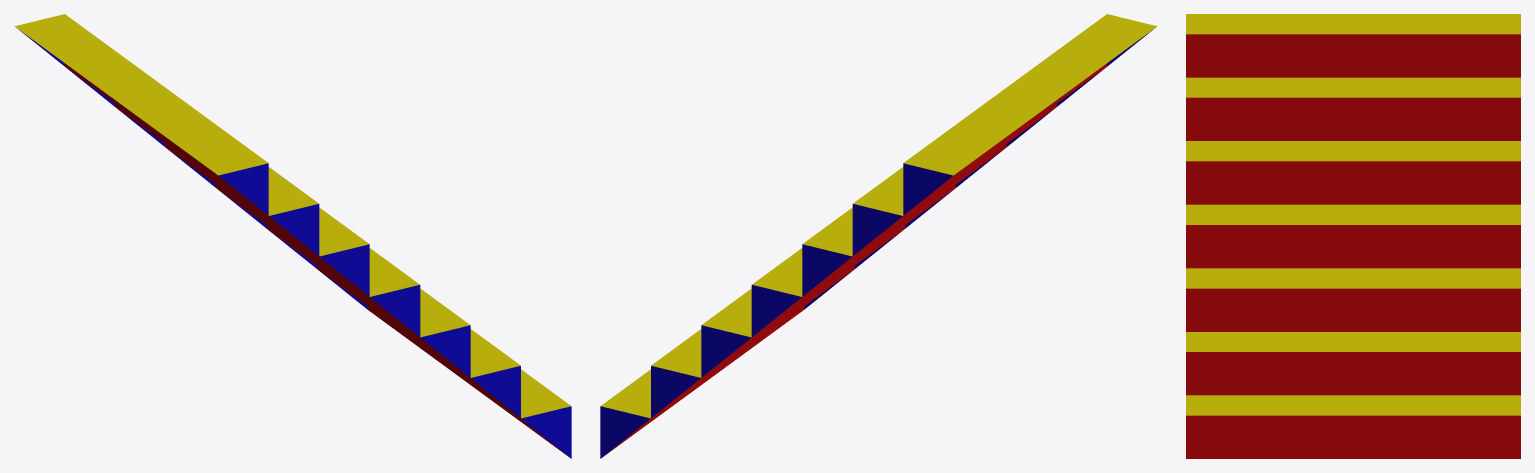
The model's file is Stair1.fbx.
3 renders of one model, left to right at view 1: azimuth 30°, elevation 25°; view 2: azimuth 150°, elevation 25°; view 3: azimuth 270°, elevation 25°, orthographic. The views are drawn at different scales.
Parts seen in each view (by area): view 1: Stair1; view 2: Stair1; view 3: Stair1.
Part boxes in pixels (x1,y1,x2,y2): Stair1: (15,14,571,458); Stair1: (600,14,1156,458); Stair1: (1186,14,1520,458).
Size of the model in its own units: 100 by 100 by 100.
